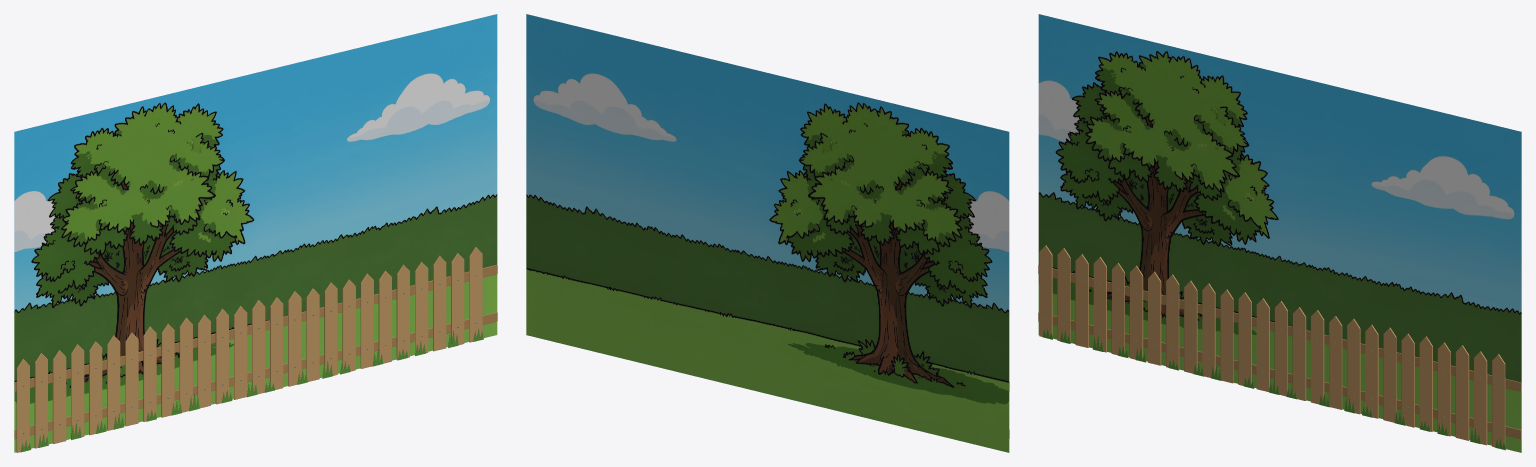
File: window-view.glb
3 renders of one model, left to right at view 1: azimuth 30°, elevation 25°; view 2: azimuth 150°, elevation 25°; view 3: azimuth 330°, elevation 25°, orthographic.
Visible parts, largest first — view 1: view, fence; view 2: view; view 3: view, fence.
Part boxes in pixels (x1,y1,x2,y2): view: [14, 14, 497, 452]; fence: [14, 247, 497, 452]; view: [526, 14, 1009, 452]; view: [1038, 14, 1521, 452]; fence: [1038, 245, 1521, 450].
Bounding box in the file's own units: 1.92 × 1.22 × 0.0087.
Materials: 5 (1 with a texture image).
